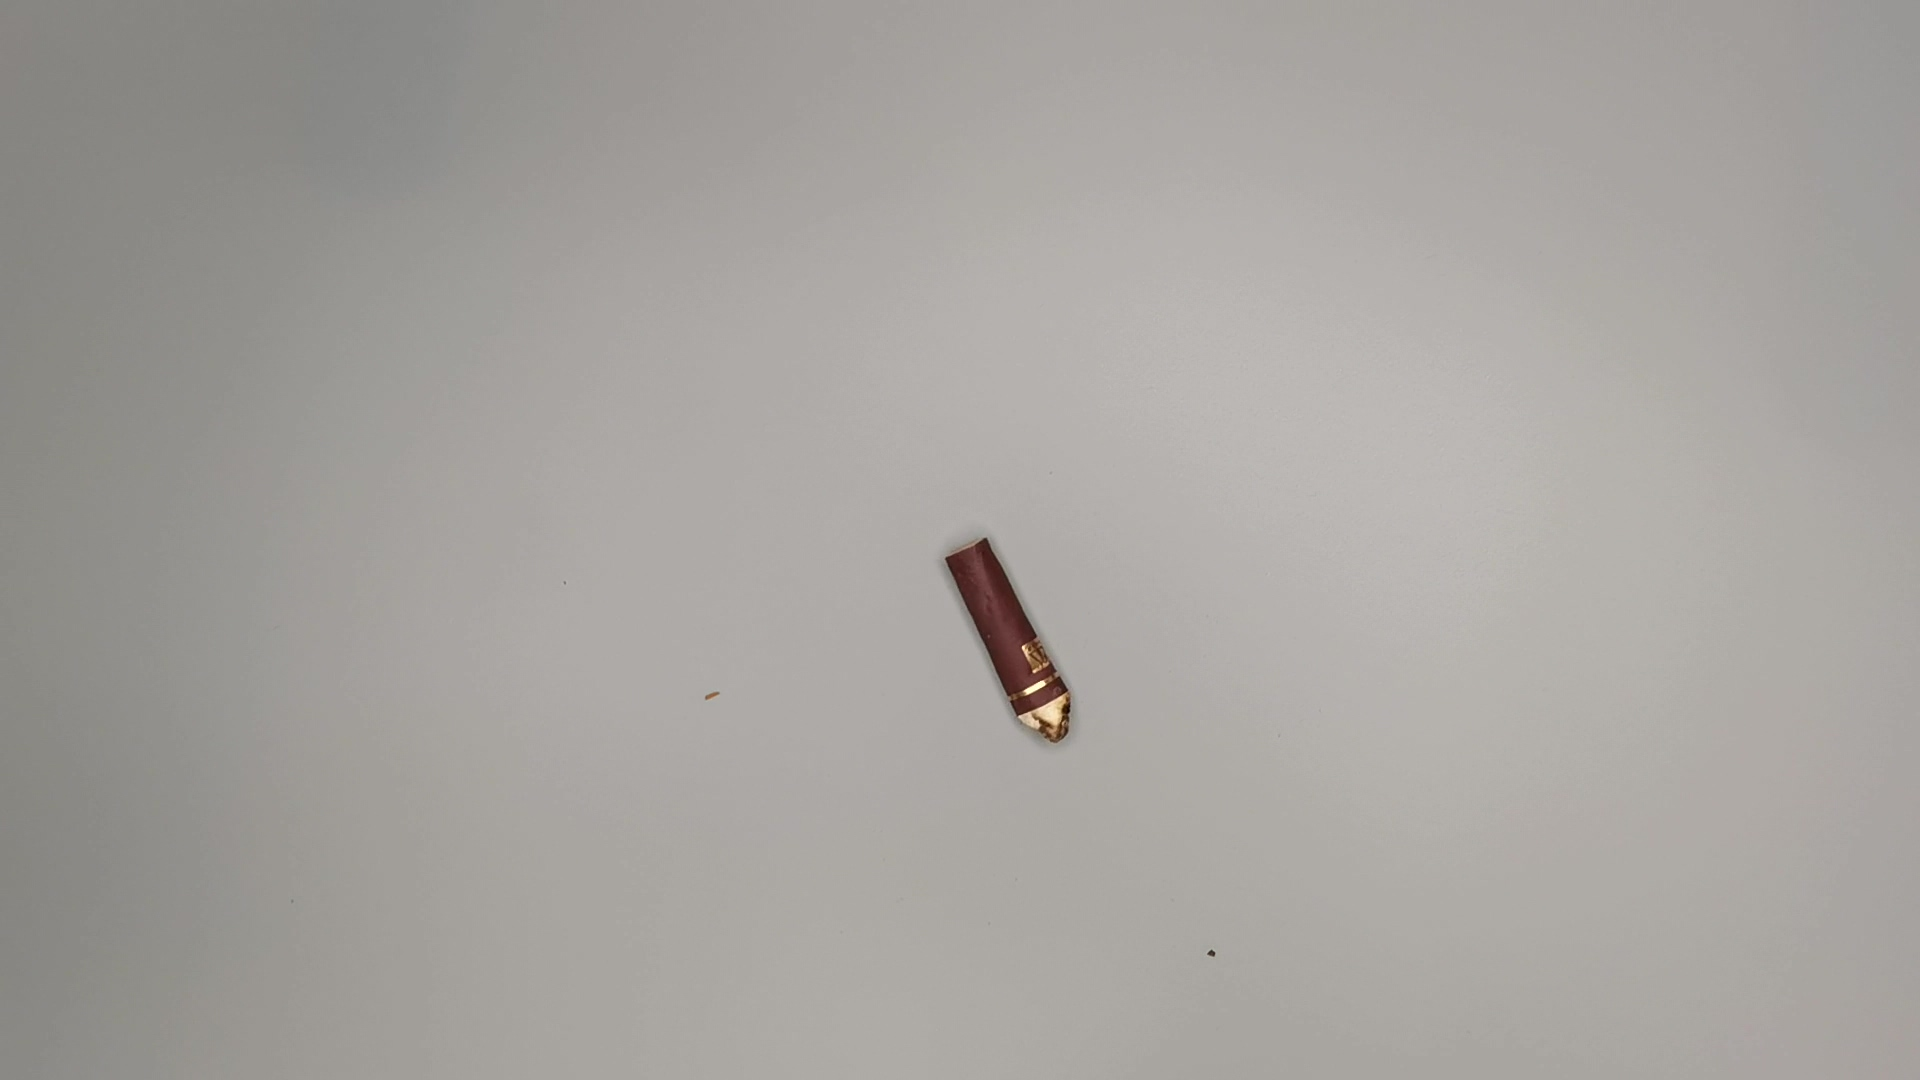cigarette: (945, 537, 1081, 764)
